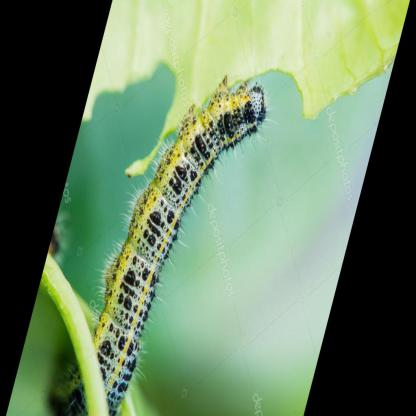pieris: (90, 76, 270, 409)
